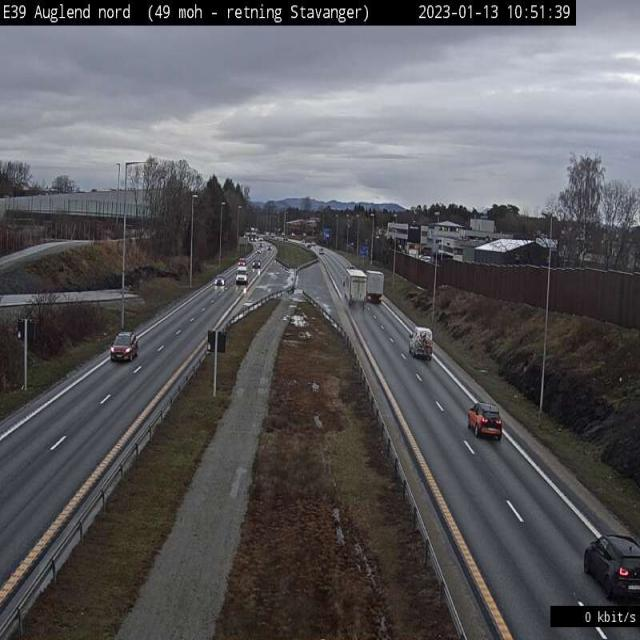car: (583, 534, 640, 603), (466, 402, 503, 439), (110, 331, 139, 361), (110, 331, 138, 362), (235, 271, 248, 285)
